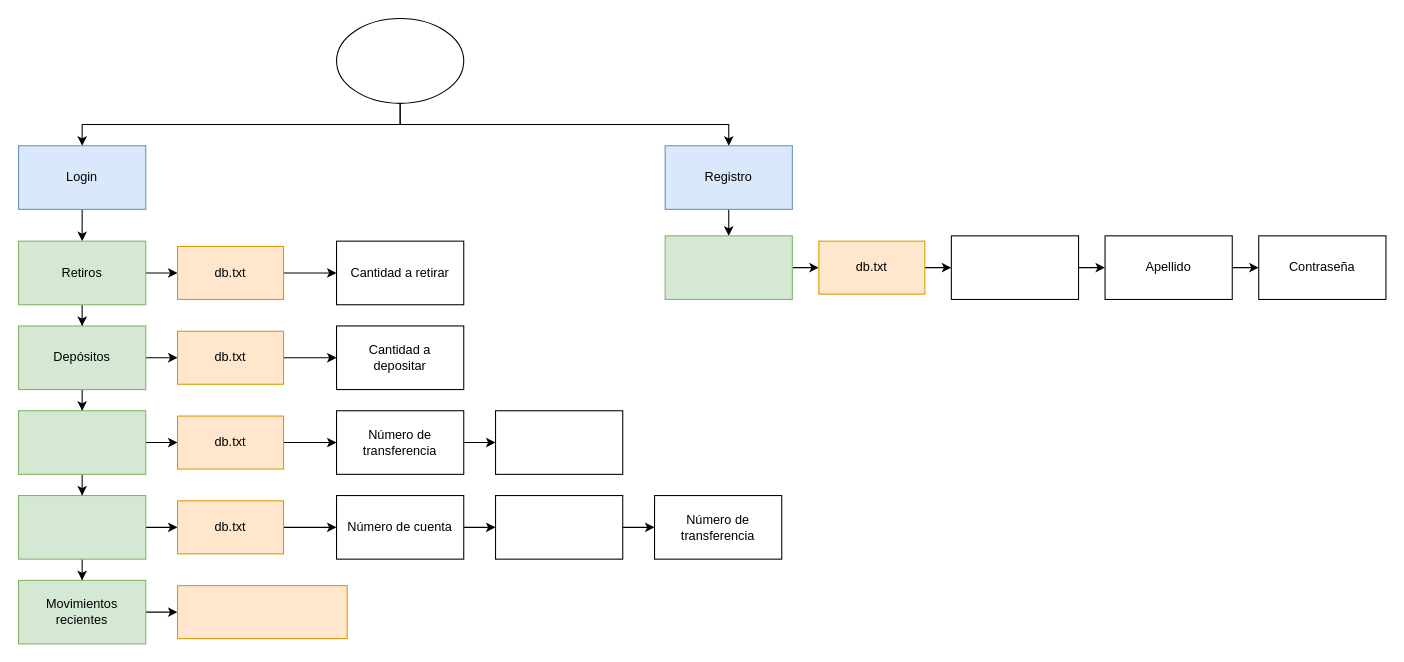
The diagram is 1404 pixels wide and 662 high, and some of its shapes have lost their labels. Each missing label, with the centre of its shape:
Balance: (x=558, y=526)
Cantidad a transferir: (x=558, y=442)
Captura de datos: (x=728, y=267)
db.txt movimientos/no_calve.txt: (x=261, y=612)
Información: (x=81, y=526)
Inicio: (x=399, y=60)
Nombre: (x=1014, y=267)
Transferencias: (x=81, y=442)
